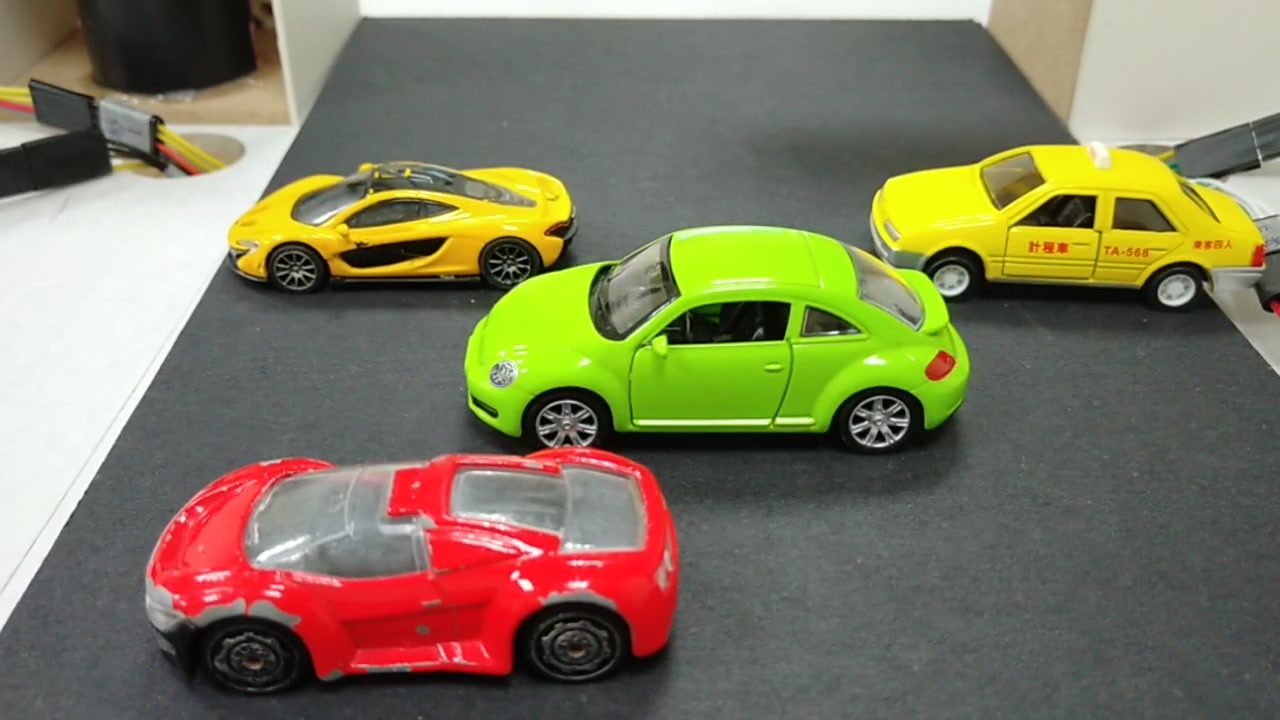car: (461, 222, 961, 456), (162, 462, 679, 678), (867, 154, 1267, 315), (233, 169, 574, 274)
